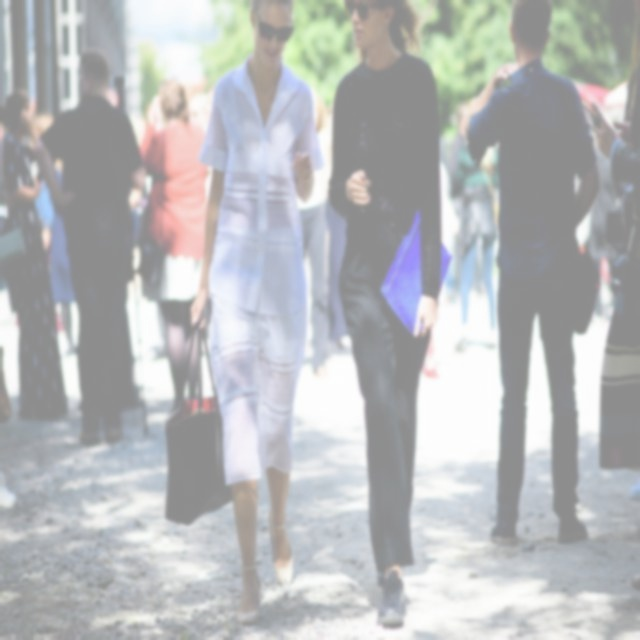pessoa: (159, 0, 326, 631), (311, 0, 457, 638), (460, 0, 603, 551), (31, 42, 151, 450), (587, 11, 639, 598), (138, 78, 209, 416), (0, 87, 70, 424), (449, 138, 499, 352), (32, 114, 76, 355), (297, 88, 333, 377), (323, 101, 353, 350), (588, 141, 620, 319), (188, 92, 214, 140), (138, 90, 162, 138), (0, 470, 22, 513), (418, 335, 443, 371)
